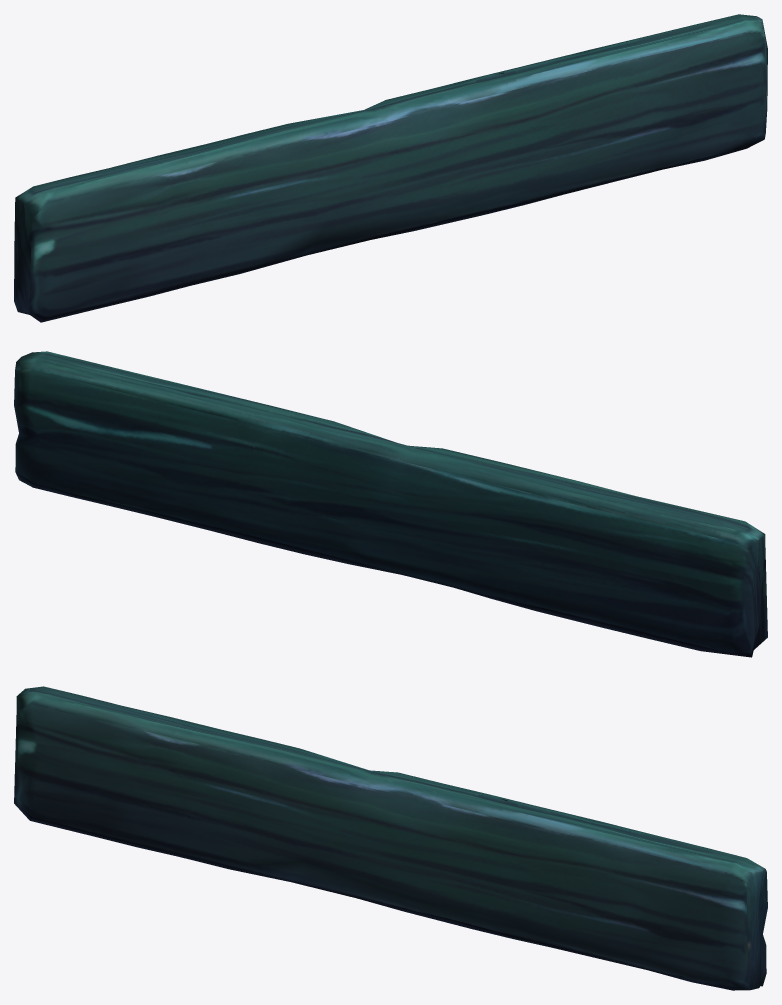
The model's file is env_rail.fbx.
3 views of the same model, one above another, from view 1: azimuth 30°, elevation 25°; view 2: azimuth 150°, elevation 25°; view 3: azimuth 330°, elevation 25° (orthographic).
Parts seen in each view (by area): view 1: env_rail; view 2: env_rail; view 3: env_rail.
Part boxes in pixels (box(x1,y1,x2,y2)): env_rail: box(14, 14, 767, 322); env_rail: box(14, 351, 767, 657); env_rail: box(14, 686, 767, 990).
Size of the model in its own units: 100 by 16.83 by 5.
1 material, 1 textured.
